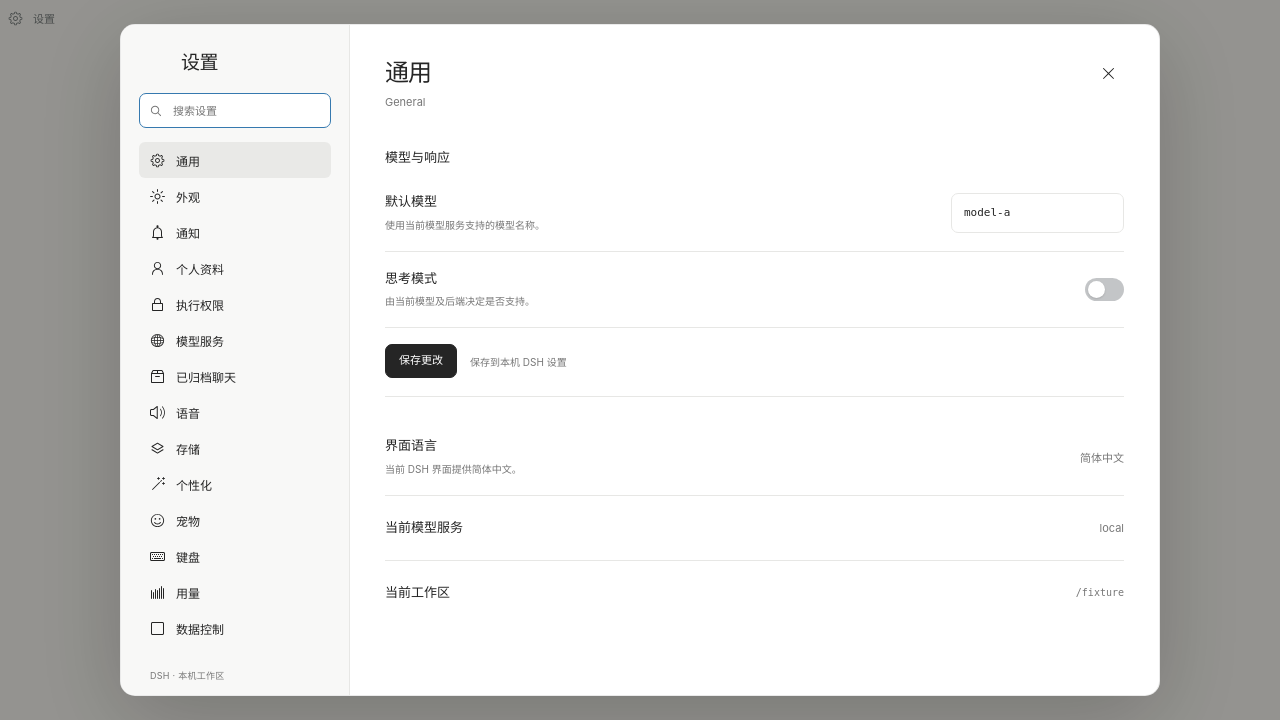
Test: Settings center › closes and cancels a nested deletion confirmation when the outer settings closes
This screenshot has width=1280, height=720.
Expected: the field named "默认模型" is enabled, x1=951 y1=193 x2=1124 y2=233
Click the button "数据控制": (235, 628) x1=139 y1=610 x2=331 y2=646
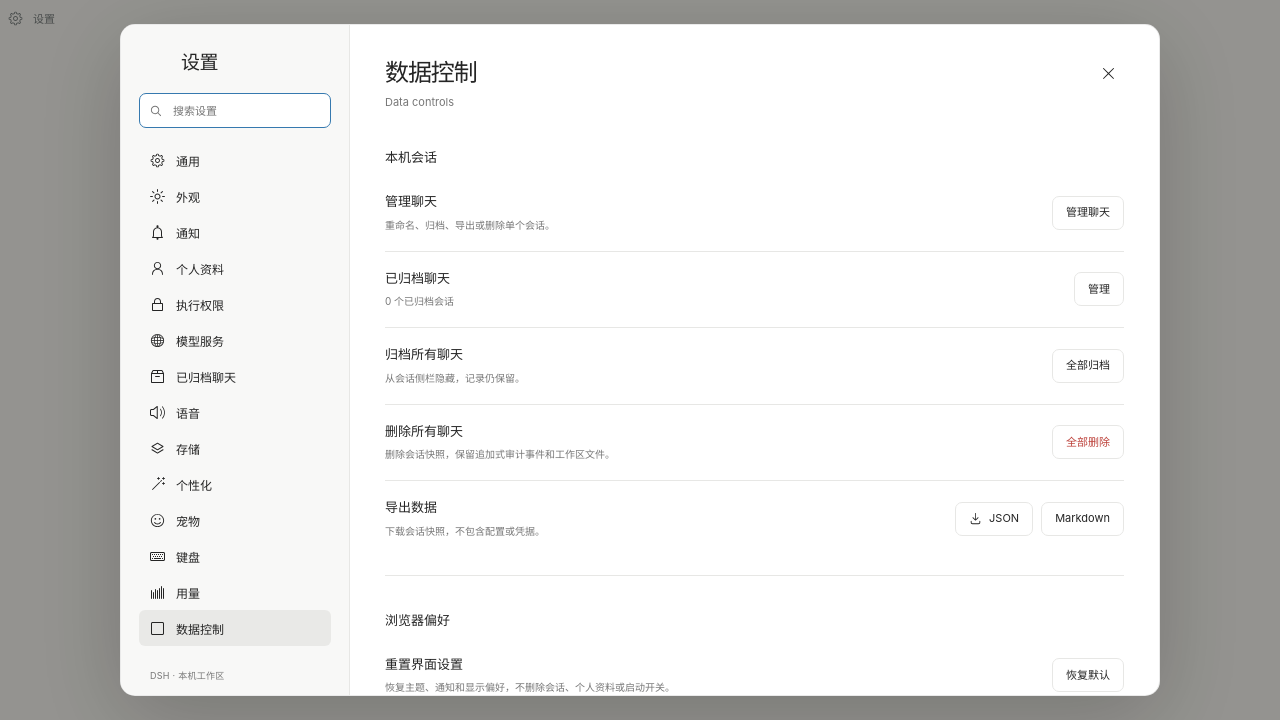
Click the button "全部删除": (1088, 442) x1=1052 y1=425 x2=1124 y2=459
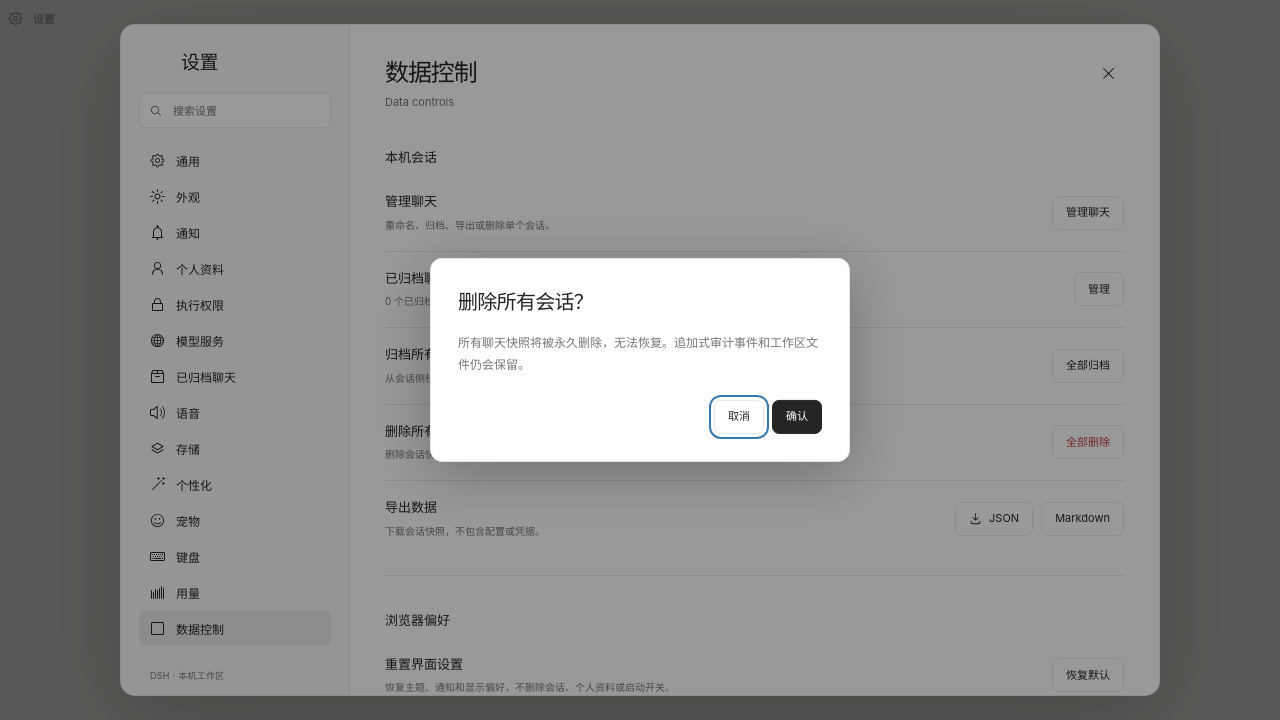
Expected: the button "确认" is shown, x1=772 y1=400 x2=822 y2=434
